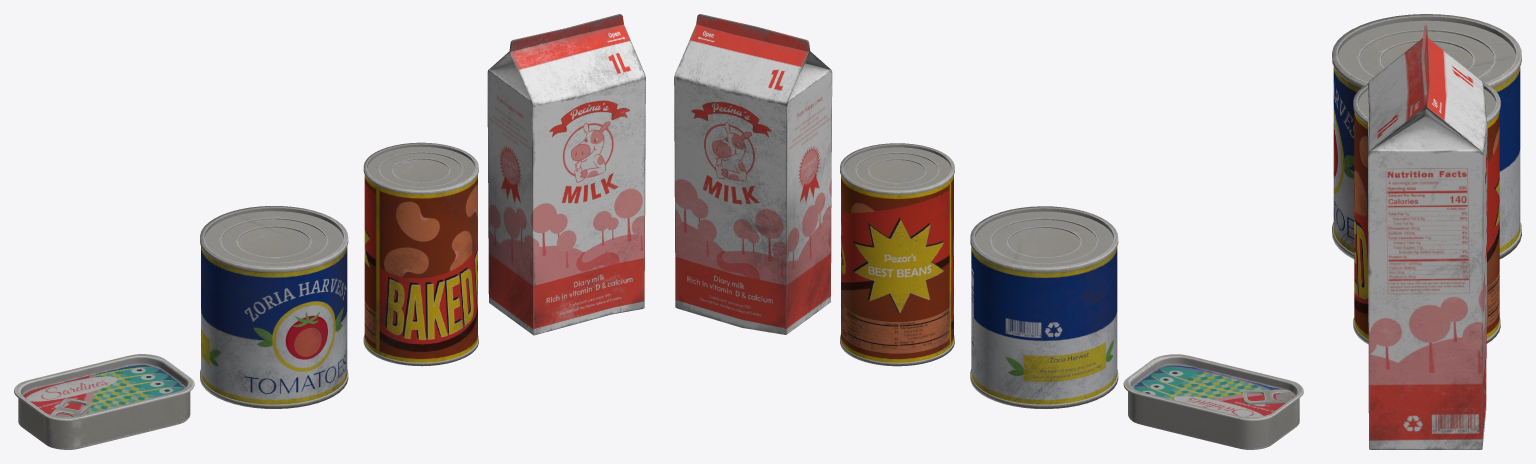
The model's file is web.gltf.
3 renders of one model, left to right at view 1: azimuth 30°, elevation 25°; view 2: azimuth 150°, elevation 25°; view 3: azimuth 270°, elevation 25°, orthographic. The views are drawn at different scales.
Parts seen in each view (by area): view 1: long_life_food_milk, long_life_food_tomatoes, long_life_food_beans, long_life_food_sardines; view 2: long_life_food_milk, long_life_food_tomatoes, long_life_food_beans, long_life_food_sardines; view 3: long_life_food_milk, long_life_food_tomatoes, long_life_food_beans.
Boxes of the visible parts, box(x1,y1,x2,y2) form: long_life_food_milk: box(487, 14, 645, 335); long_life_food_tomatoes: box(200, 206, 348, 408); long_life_food_beans: box(363, 142, 478, 366); long_life_food_sardines: box(14, 354, 194, 449); long_life_food_milk: box(674, 14, 832, 334); long_life_food_tomatoes: box(970, 206, 1118, 408); long_life_food_beans: box(840, 143, 954, 366); long_life_food_sardines: box(1123, 354, 1303, 449); long_life_food_milk: box(1368, 25, 1487, 449); long_life_food_tomatoes: box(1332, 14, 1521, 259); long_life_food_beans: box(1353, 81, 1500, 344).
Size of the model in its own units: 0.5238 by 0.2376 by 0.1136.
Materials: 1 (1 with a texture image).
